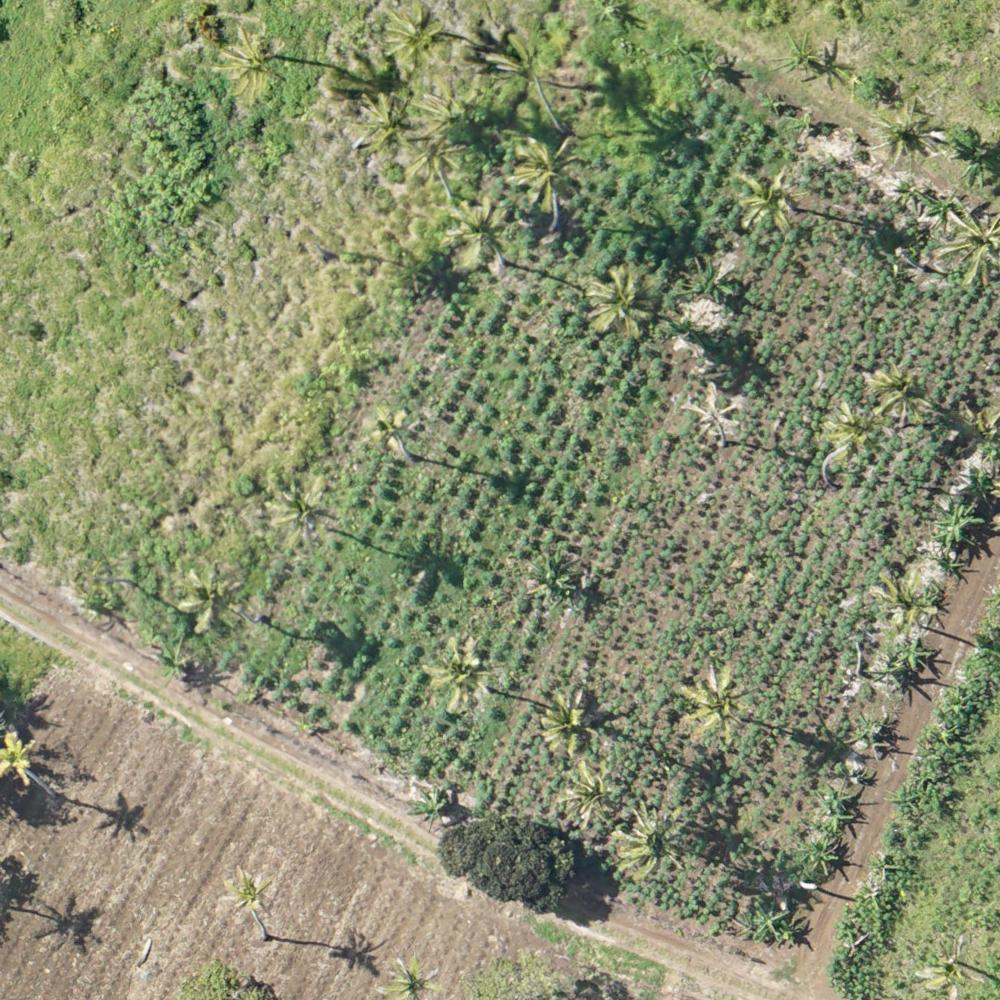Palm: (681, 663, 750, 741), (619, 802, 686, 878), (938, 204, 1000, 285), (509, 130, 580, 200), (216, 25, 282, 100), (429, 634, 493, 709), (589, 265, 656, 336), (863, 358, 936, 423), (733, 165, 802, 232), (870, 106, 937, 172), (874, 568, 942, 633), (447, 200, 506, 268), (386, 1, 449, 64), (559, 759, 619, 824), (484, 25, 550, 83), (180, 564, 239, 628), (362, 402, 424, 462), (352, 91, 411, 154), (275, 481, 331, 543), (542, 693, 599, 751), (822, 404, 884, 456), (917, 939, 969, 997), (406, 128, 465, 175), (380, 957, 444, 1000), (220, 866, 269, 916)
